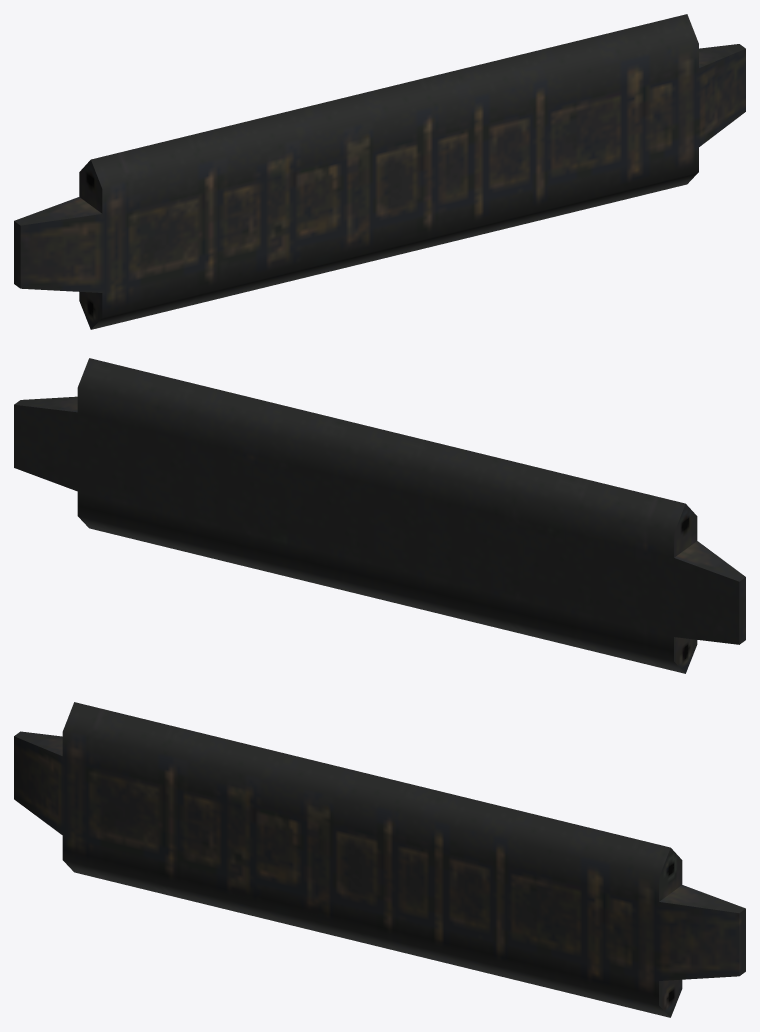
3 views of the same model, one above another, from view 1: azimuth 30°, elevation 25°; view 2: azimuth 150°, elevation 25°; view 3: azimuth 330°, elevation 25° (orthographic).
Visible parts, largest first — view 1: set_0_group_0; view 2: set_0_group_0; view 3: set_0_group_0.
Boxes of the visible parts, x1,y1,x2,y2 form: set_0_group_0: (14, 14, 745, 329); set_0_group_0: (14, 358, 745, 673); set_0_group_0: (14, 702, 745, 1017).
Size of the model in its own units: 0.9 by 0.202 by 0.05.
1 material, 1 textured.
